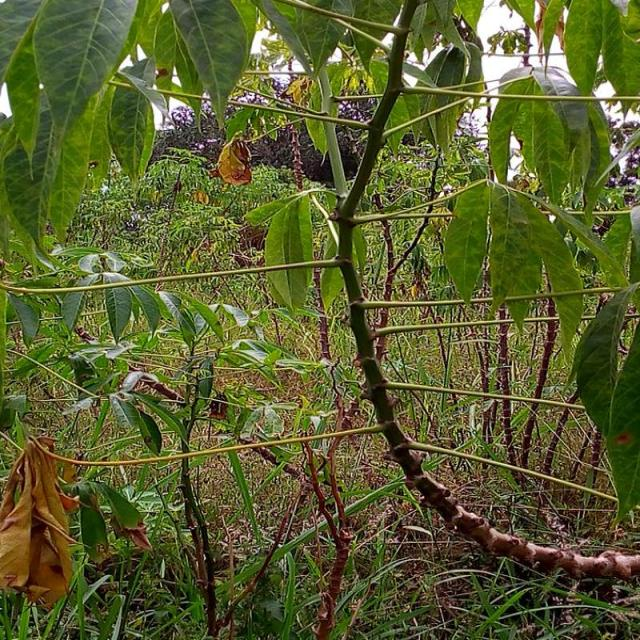cassava leaf: (2, 0, 139, 257), (444, 176, 586, 361), (169, 0, 257, 131), (265, 191, 314, 315)
